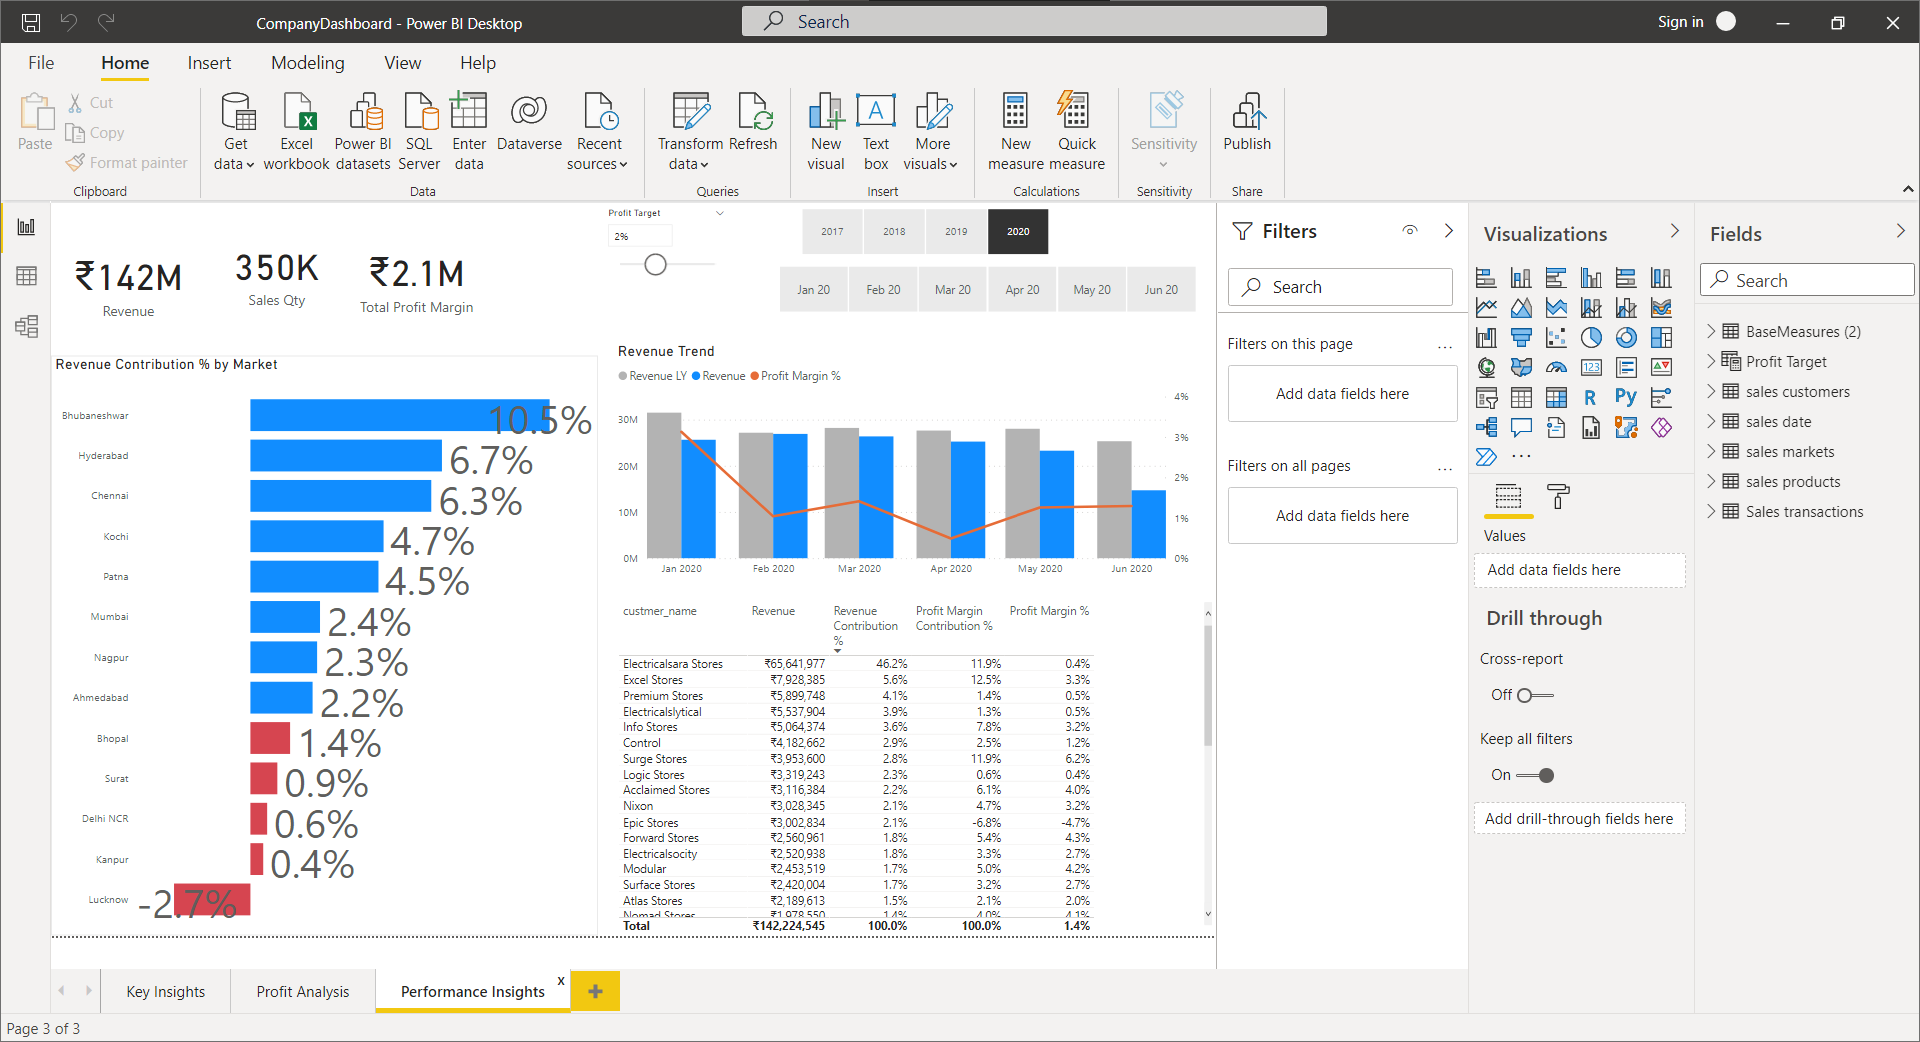

Layout of this report page (visuals, bound fields, positions):
{"tool":"powerbi","page":{"name":"Performance Insights","canvas":[1350,850],"ordinal":2},"visuals":[{"type":"card","fields":{"Values":["BaseMeasures (2).Revenue"]},"box":[0,0,179.6,184.8],"z":0},{"type":"card","fields":{"Values":["BaseMeasures (2).Sales Qty"]},"box":[179.6,0,164.1,161],"z":1000},{"type":"slicer","fields":{"Values":["sales date.year"]},"box":[844.4,0,335.5,66.1],"z":2000},{"type":"slicer","fields":{"Values":["sales date.cy_date"]},"box":[818.6,66.1,531.6,66.1],"z":3000},{"type":"tableEx","title":"Top 5 Customers","fields":{"Values":["sales customers.custmer_name","BaseMeasures (2).Revenue","BaseMeasures (2).Revenue Contribution %","BaseMeasures (2).Profit Margin Contribution %","BaseMeasures (2).Profit Margin %"]},"box":[651.4,457.3,698.8,392.3],"z":4000},{"type":"lineClusteredColumnComboChart","title":"Revenue Trend","fields":{"Category":["sales date.cy_date"],"Y":["BaseMeasures (2).Revenue LY","BaseMeasures (2).Revenue"],"Y2":["BaseMeasures (2).Profit Margin %"]},"box":[651.4,161,672,281.8],"z":5000},{"type":"card","fields":{"Values":["BaseMeasures (2).Total Profit Margin"]},"box":[343.7,0,161,176.5],"z":6000},{"type":"barChart","title":"Revenue Contribution % by Market","fields":{"Y":["BaseMeasures (2).Profit Margin %"],"Category":["sales markets.zone","sales markets.markets_name","sales customers.custmer_name","sales products.product_code"]},"box":[0,176.3,633.4,673],"z":7000},{"type":"slicer","fields":{"Values":["Profit Target.Profit Target"]},"box":[633.4,0,159.7,131.5],"z":8000}]}

Visuals, with their boxes on the page's 1350x850 design canvas (x1, y1, x2, y2). These are canvas units, not pixel positions in the 1920x1042 screenshot, which may show the page scaled, cropped or inside an application window:
card - BaseMeasures (2).Revenue: 0 0 180 185
card - BaseMeasures (2).Sales Qty: 180 0 344 161
slicer - sales date.year: 844 0 1180 66
slicer - sales date.cy_date: 819 66 1350 132
"Top 5 Customers" tableEx: 651 457 1350 850
"Revenue Trend" lineClusteredColumnComboChart: 651 161 1323 443
card - BaseMeasures (2).Total Profit Margin: 344 0 505 176
"Revenue Contribution % by Market" barChart: 0 176 633 849
slicer - Profit Target.Profit Target: 633 0 793 132
